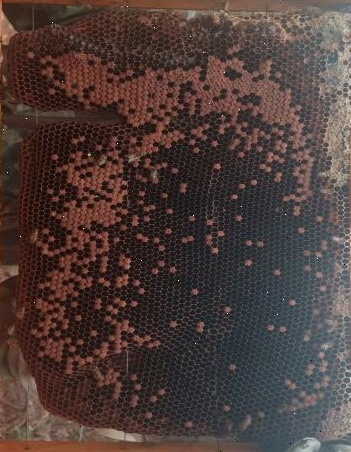cria: (24, 46, 328, 436)
